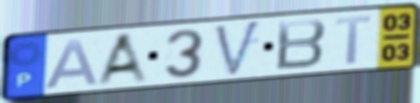3: (161, 28, 206, 81)
A: (93, 29, 153, 86), (42, 36, 101, 90)
B: (274, 17, 329, 73)
T: (333, 13, 374, 66)
V: (212, 17, 264, 79)
